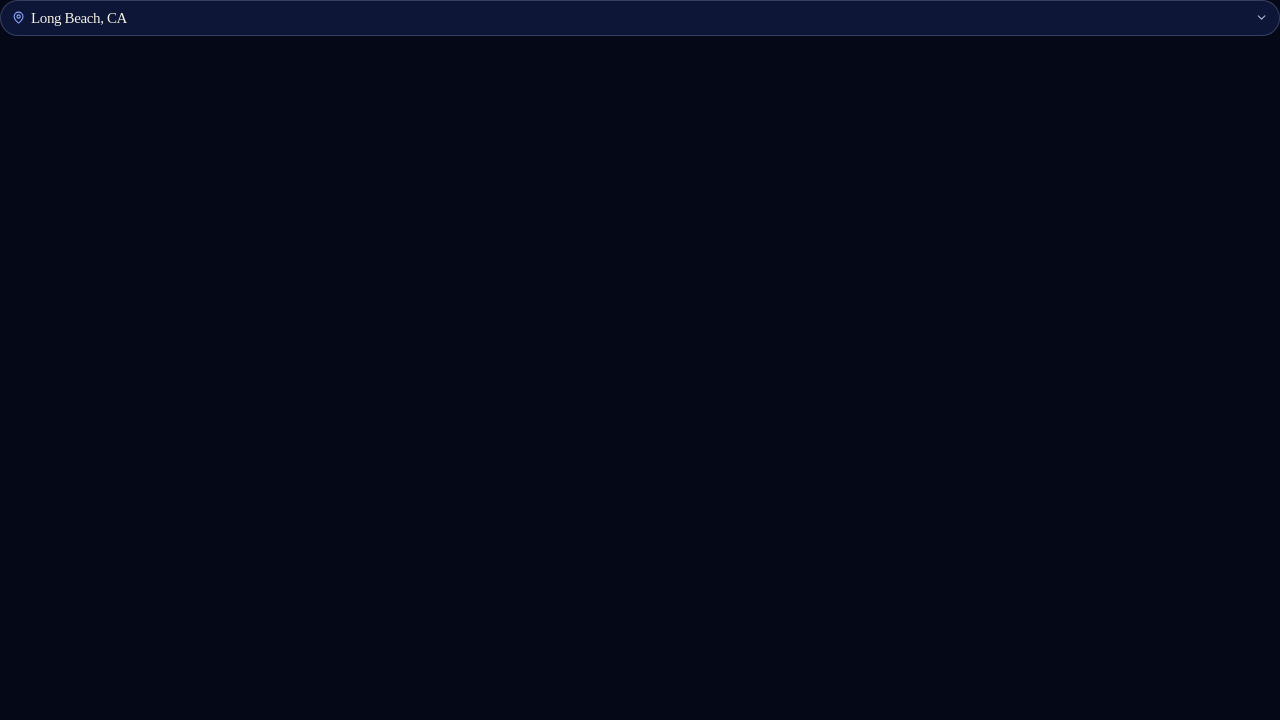
PlaceCombobox › keeps an empty status outside the listbox until there are no results
Click the button with aria-label "Place preset: Long Beach, CA": (79, 18) 0,0 -> 1279,36
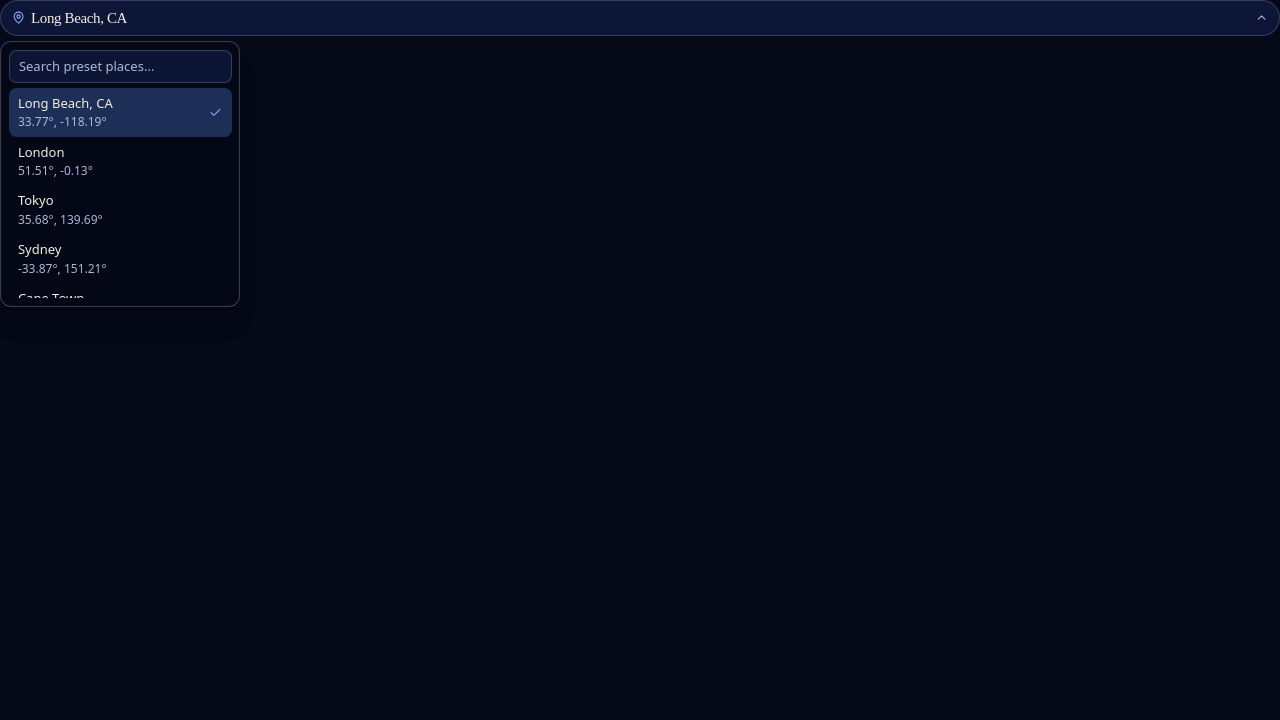
In the dropdown: (120, 66) 8,50 -> 232,83, type "No such place"
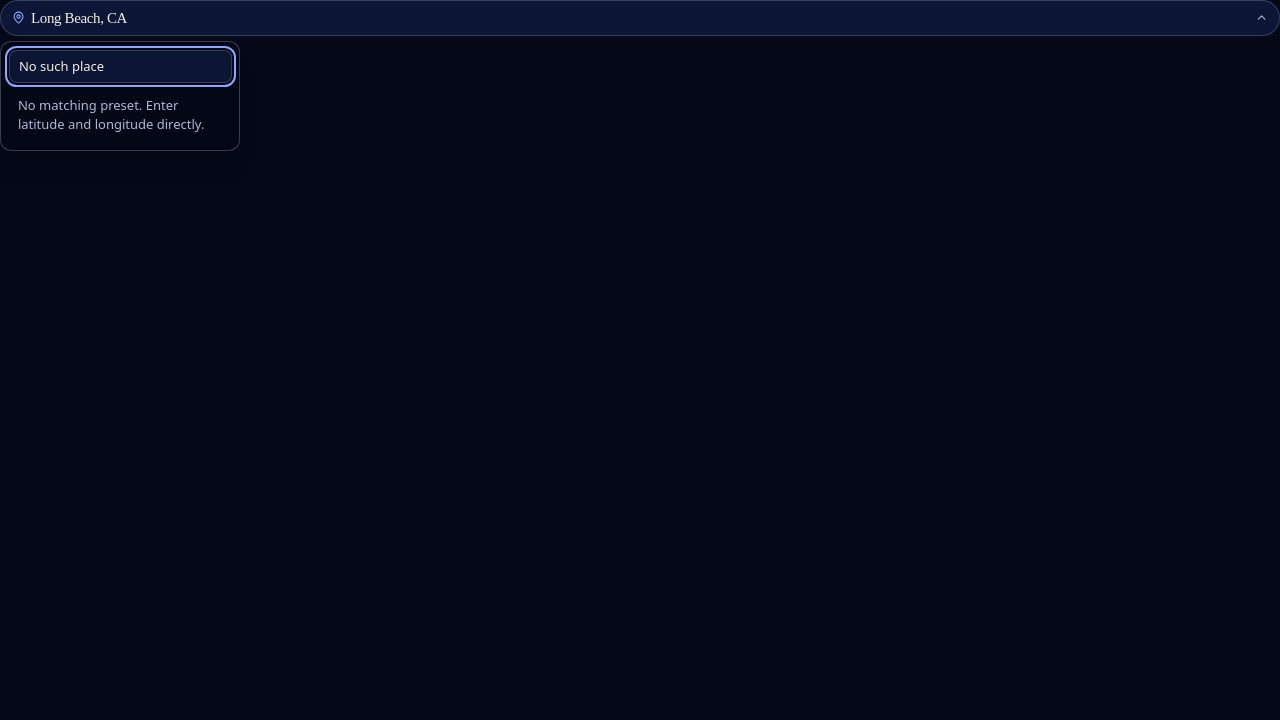
Result: no options are shown
Result: the message shows "No matching preset" at 18,96 -> 204,133
